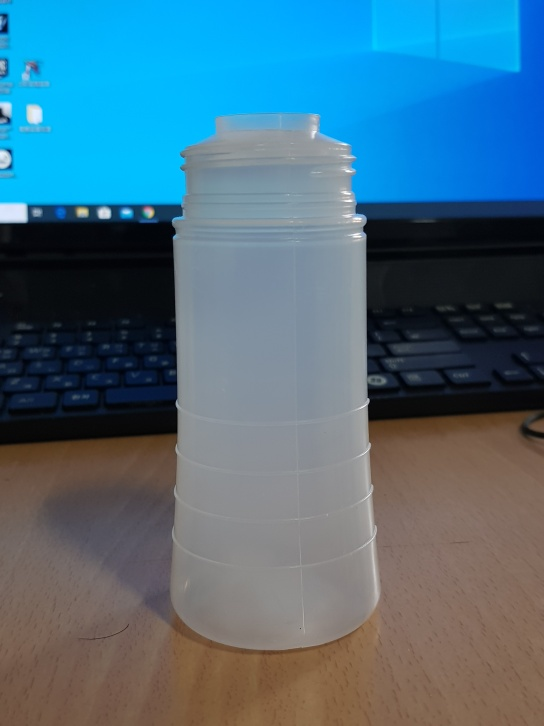Plastic: (170, 113, 379, 653)
